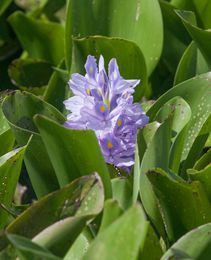water_hyacinth: (1, 0, 210, 259)
